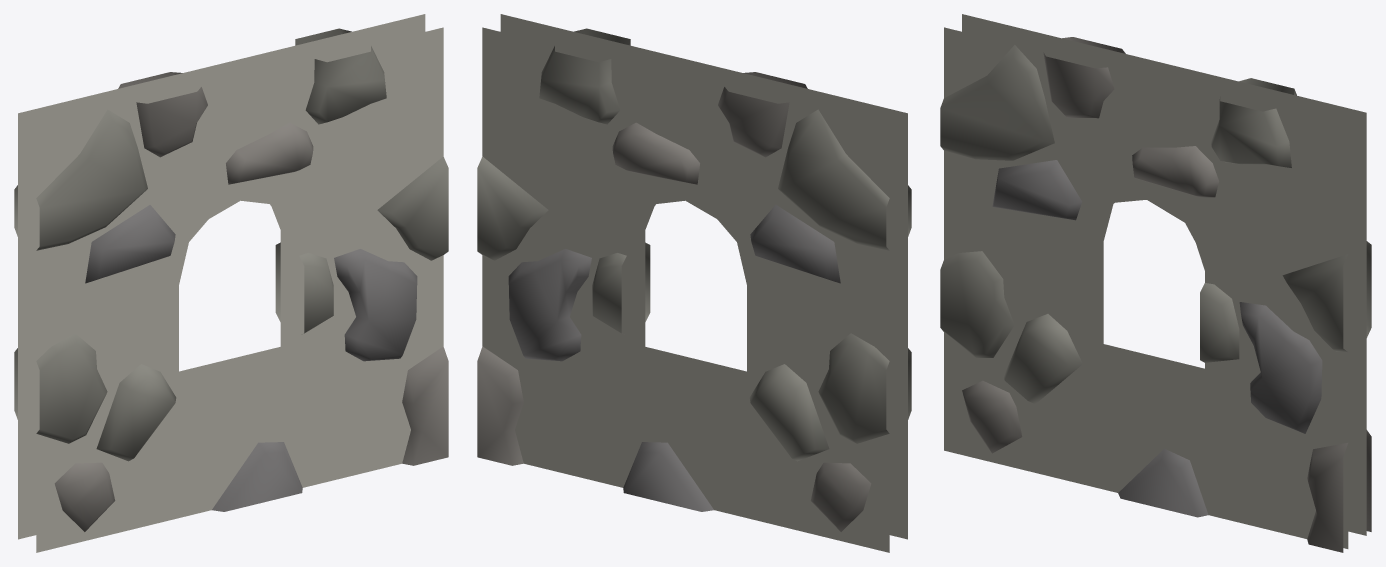
File: rpgpp_ag_wall_04_3x3_window_03b.fbx
The picture shows the model from 3 angles, left to right: view 1: azimuth 30°, elevation 25°; view 2: azimuth 150°, elevation 25°; view 3: azimuth 330°, elevation 25°; orthographic projection.
Visible parts, largest first — view 1: rpgpp_ag_wall_04_3x3_window_03b; view 2: rpgpp_ag_wall_04_3x3_window_03b; view 3: rpgpp_ag_wall_04_3x3_window_03b.
Part boxes in pixels (<box>): rpgpp_ag_wall_04_3x3_window_03b: <box>14,14,448,552</box>; rpgpp_ag_wall_04_3x3_window_03b: <box>477,14,911,552</box>; rpgpp_ag_wall_04_3x3_window_03b: <box>940,14,1371,552</box>.
Size of the model in its own units: 3 by 3 by 0.404.
